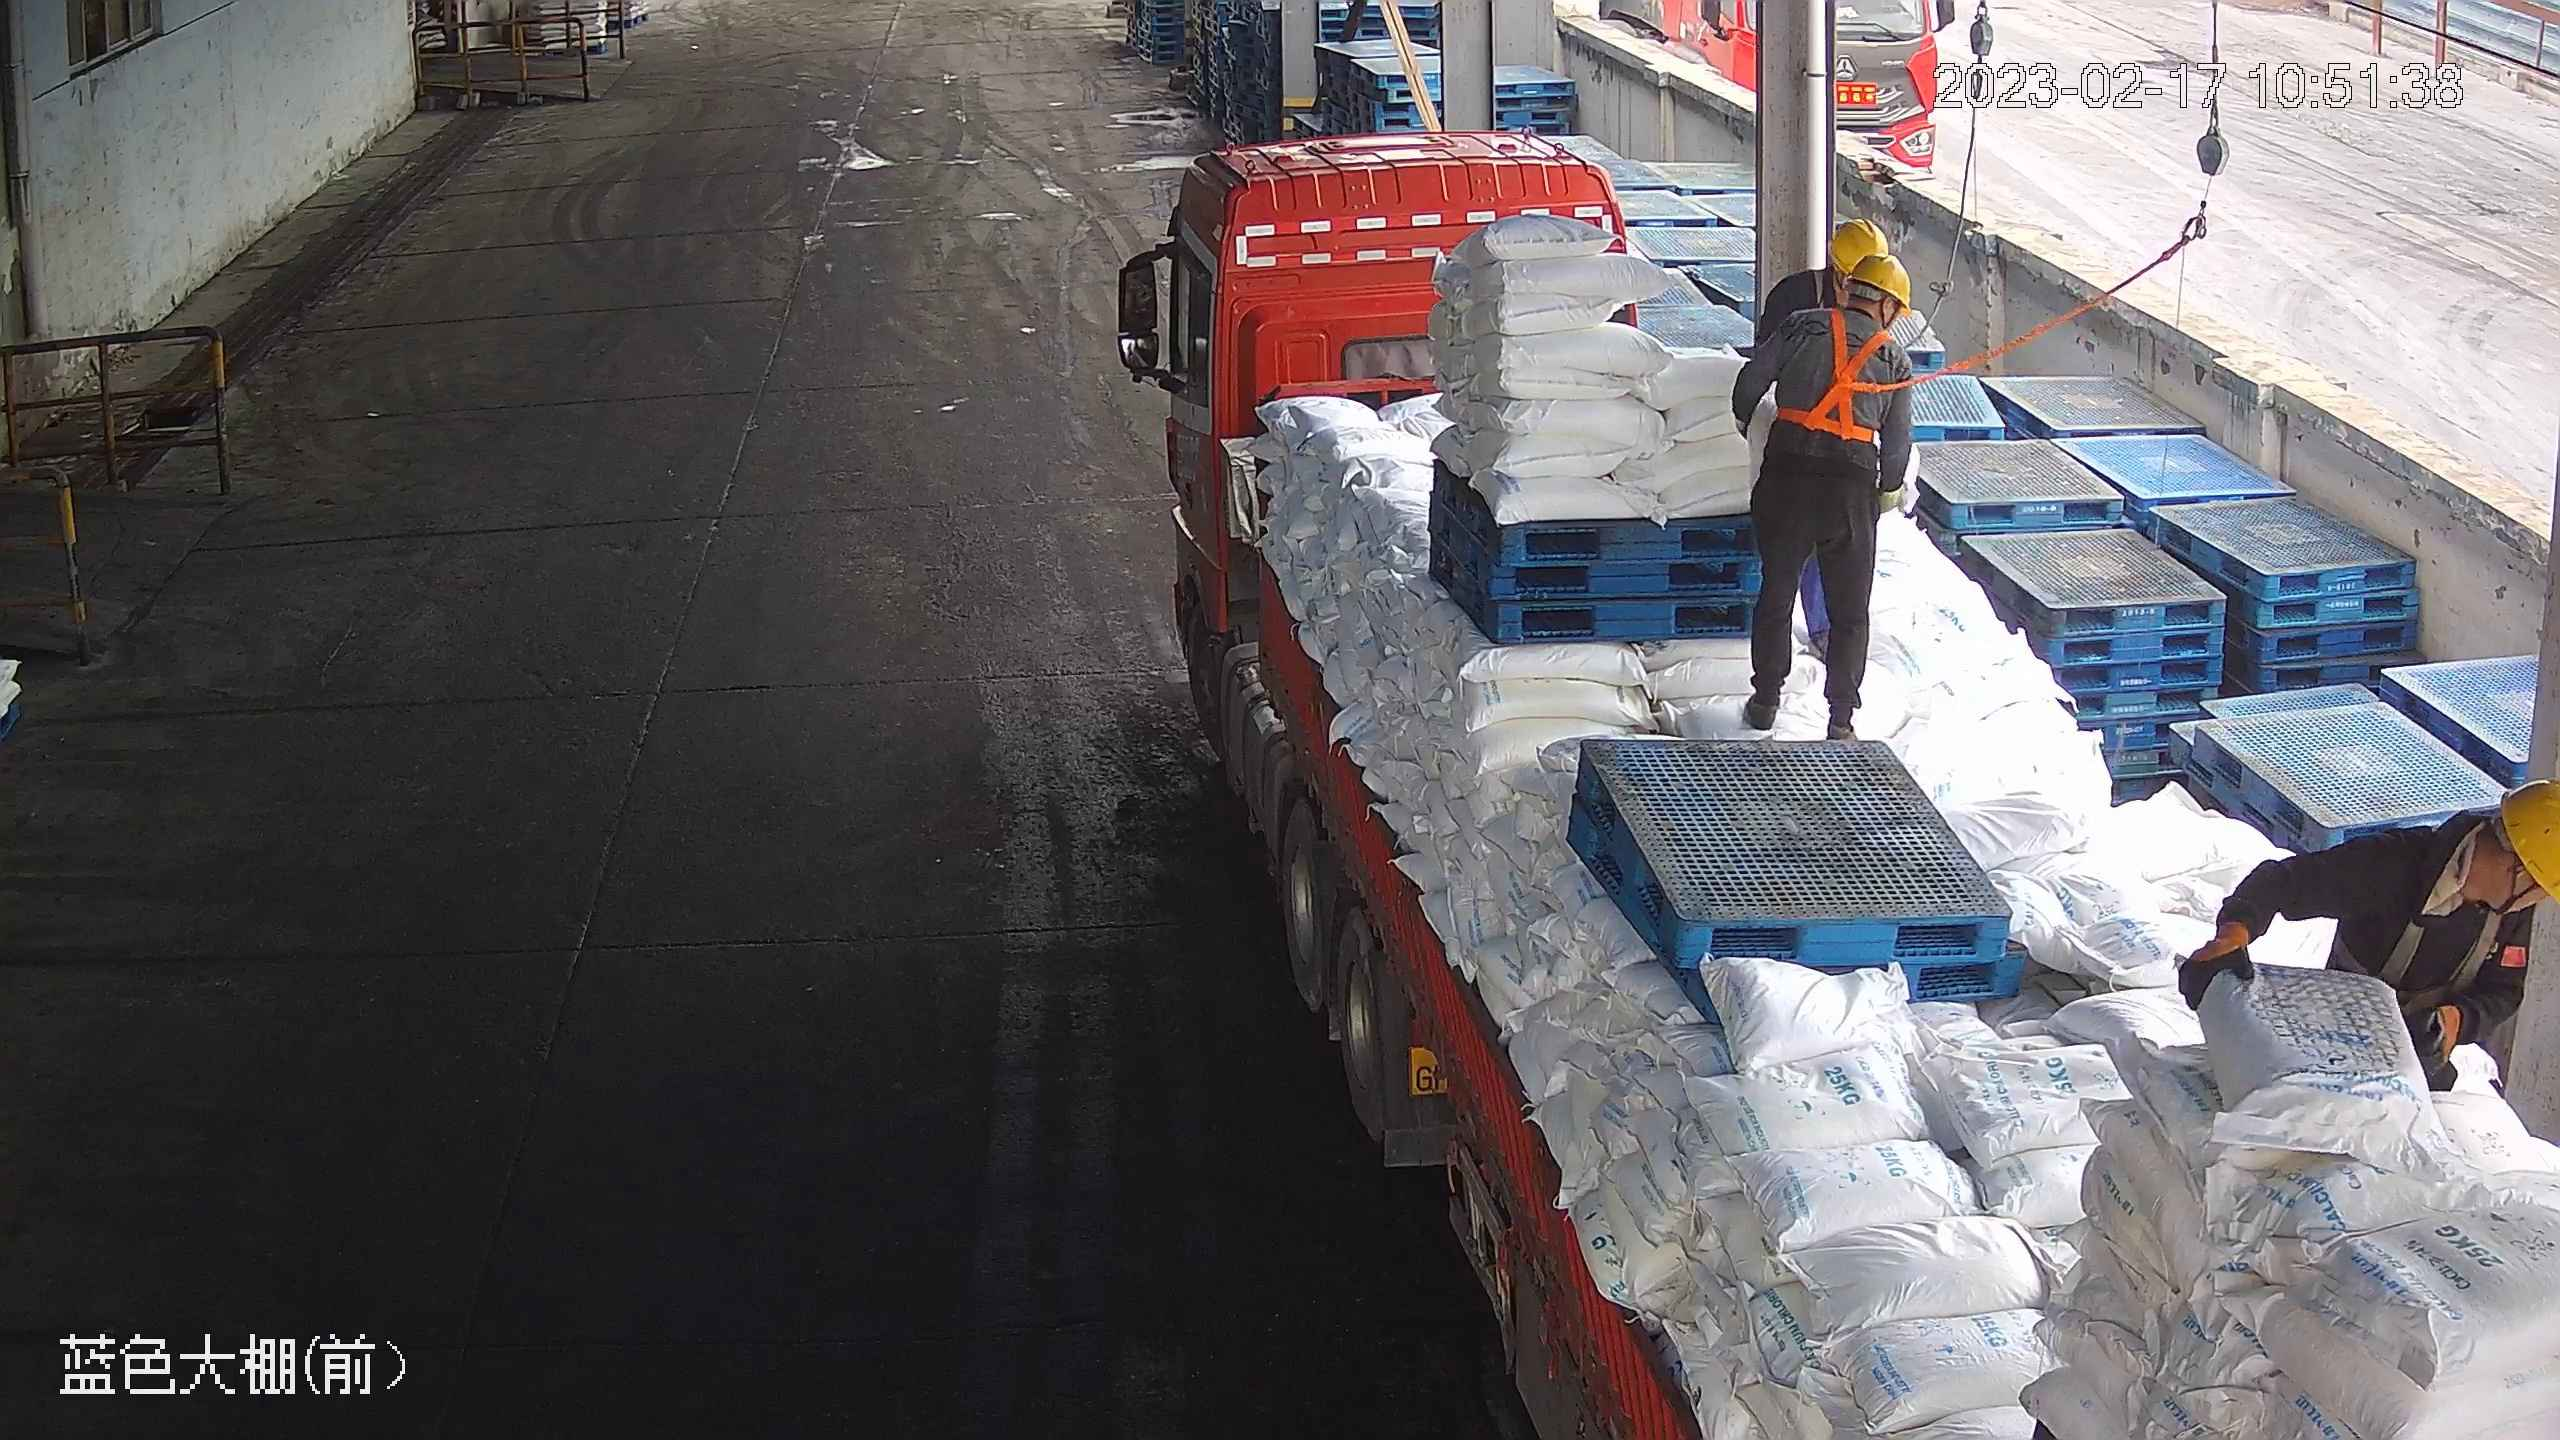belt: (1773, 298, 1910, 442), (2425, 891, 2522, 981)
head: (2378, 779, 2560, 948), (1761, 242, 1918, 367)
helmet: (2499, 778, 2560, 908), (1846, 252, 1914, 316), (1825, 212, 1887, 274)
people: (2174, 790, 2558, 1097), (1730, 240, 1918, 736)
truck: (1158, 159, 2552, 1438)
